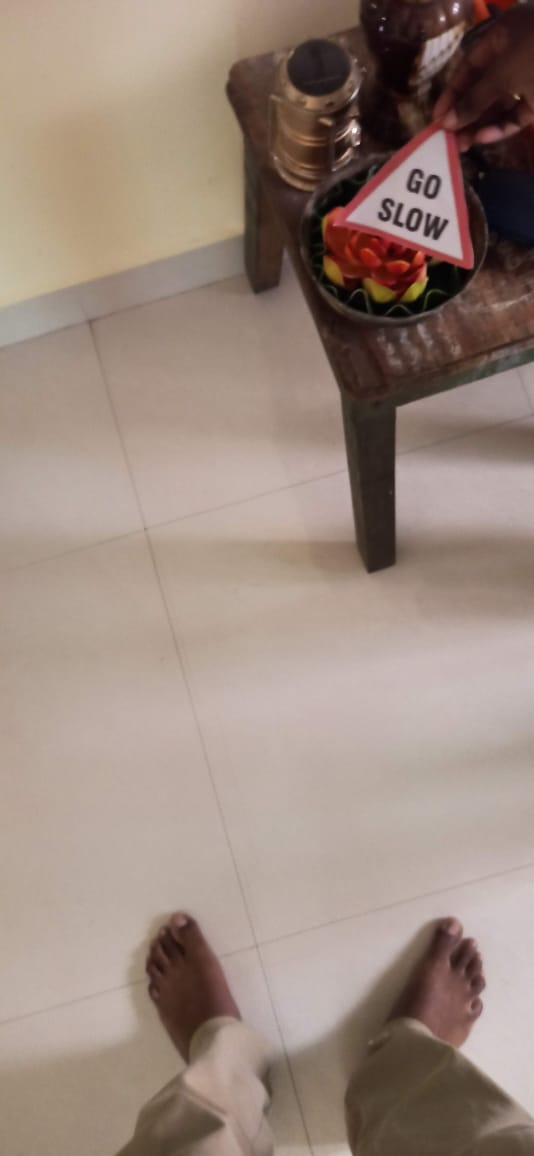GO SLOW: (326, 109, 493, 276)
